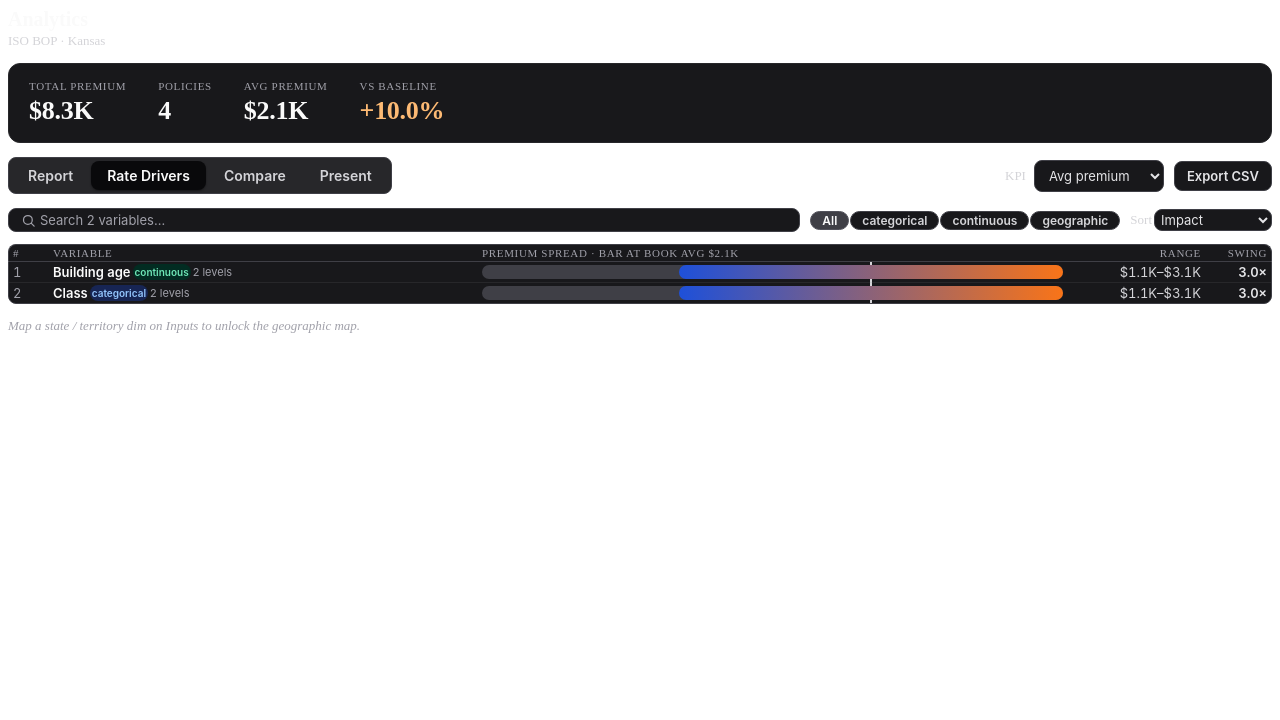
Test case: <AnalyticsWorkspaceV2> › shows dislocation + impact in Compare when a comparison is bound
The width and height of the screenshot is (1280, 720).
Click the tab with test id "rater-analytics-act-compare" at (255, 176), box [208,161,302,190]
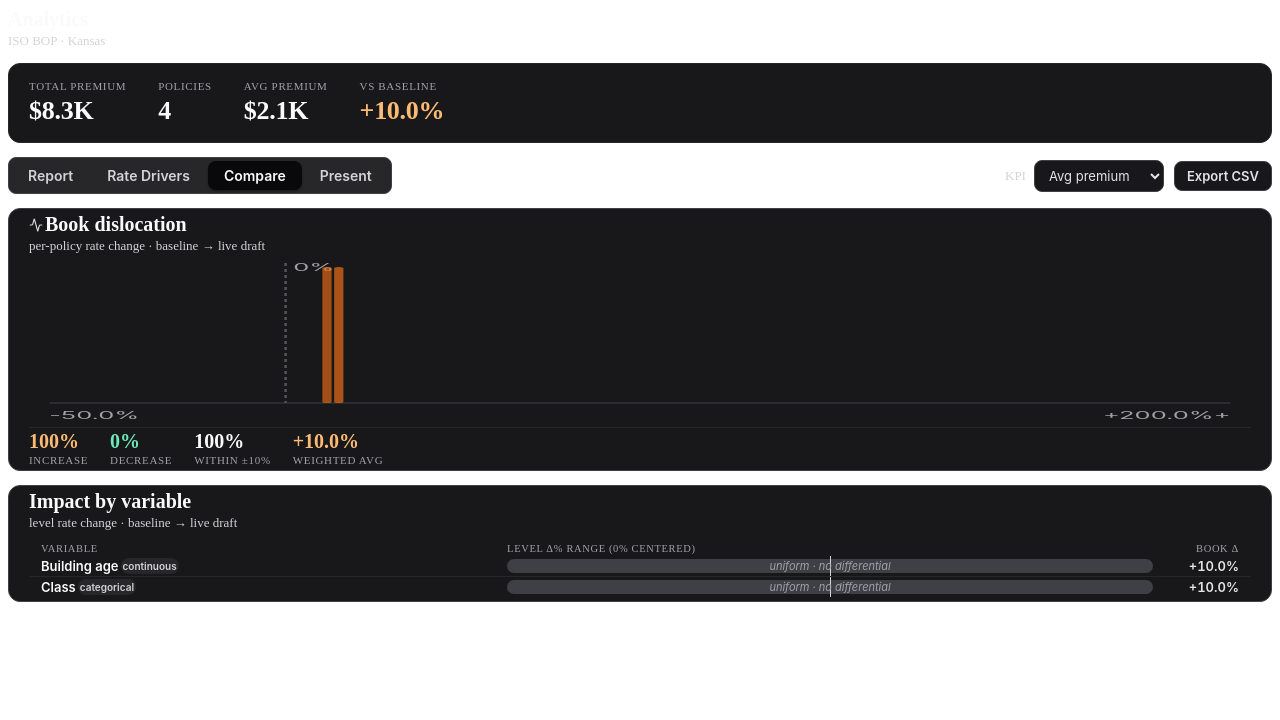
Expected: the element with test id "rater-analytics-dislocation" is shown, [8,208,1272,471]
Expected: the element with test id "rater-analytics-impact" is shown, [8,485,1272,602]
